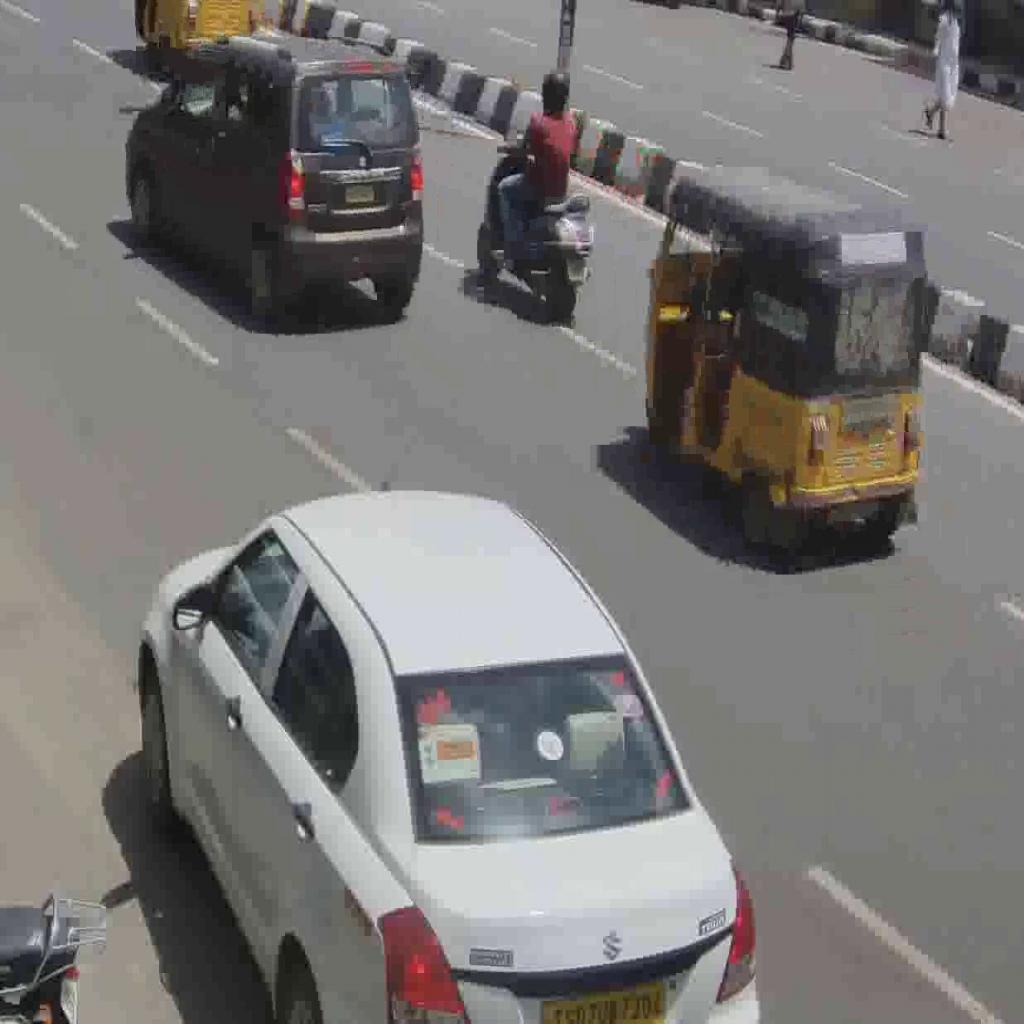helmet: (476, 126, 596, 324)
